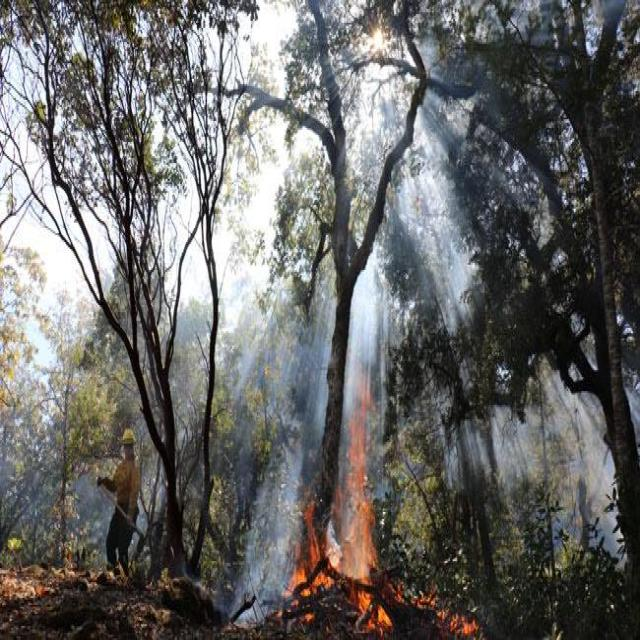Fire: (276, 314, 404, 640)
